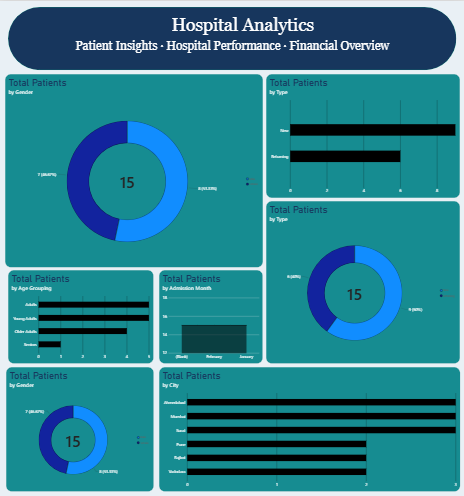

What the dashboard file says about the page in this screenshot:
{"tool":"powerbi","page":{"name":"Patient Analytics","canvas":[2320,2480],"ordinal":2},"visuals":[{"type":"donutChart","fields":{"Category":["Patients.Gender"],"Y":["Medical Transactions.Total Patients"]},"box":[29,1829,738.7,622.6],"z":0},{"type":"shape","box":[39.4,30.3,2242.1,315.8],"z":2},{"type":"textbox","box":[145.5,69.7,2136.4,157.6],"z":3},{"type":"textbox","box":[39.4,187.9,2242.4,75.8],"z":4},{"type":"clusteredBarChart","fields":{"Category":["Patients.Age Grouping"],"Y":["Medical Transactions.Total Patients"]},"box":[40,1344.2,727.5,468.3],"z":5},{"type":"donutChart","fields":{"Category":["Patients.Gender"],"Y":["Medical Transactions.Total Patients"]},"box":[22.5,362.5,1290,966.7],"z":6},{"type":"donutChart","fields":{"Category":["Patients.Type"],"Y":["Medical Transactions.Total Patients"]},"box":[1330,1000,970,812.5],"z":7},{"type":"clusteredBarChart","fields":{"Category":["Patients.City"],"Y":["Medical Transactions.Total Patients"]},"box":[793.5,1829,1506.5,622.6],"z":8},{"type":"lineChart","fields":{"Category":["Medical Transactions.Admission Month"],"Y":["Medical Transactions.Total Patients"]},"box":[793.3,1344.2,519.2,468.3],"z":9},{"type":"barChart","fields":{"Category":["Patients.Type"],"Y":["Medical Transactions.Total Patients"]},"box":[1327.5,362.5,970,620],"z":10}]}

Visuals, with their boxes in screenshot pixels (x1, y1, x2, y2), scaled from the page's 2320x2480 canvas onto the 464x496 screenshot:
donutChart - Patients.Gender x Medical Transactions.Total Patients: {"left": 6, "top": 366, "right": 154, "bottom": 490}
shape: {"left": 8, "top": 6, "right": 456, "bottom": 69}
textbox: {"left": 29, "top": 14, "right": 456, "bottom": 45}
textbox: {"left": 8, "top": 38, "right": 456, "bottom": 53}
clusteredBarChart - Patients.Age Grouping x Medical Transactions.Total Patients: {"left": 8, "top": 269, "right": 154, "bottom": 362}
donutChart - Patients.Gender x Medical Transactions.Total Patients: {"left": 4, "top": 72, "right": 262, "bottom": 266}
donutChart - Patients.Type x Medical Transactions.Total Patients: {"left": 266, "top": 200, "right": 460, "bottom": 362}
clusteredBarChart - Patients.City x Medical Transactions.Total Patients: {"left": 159, "top": 366, "right": 460, "bottom": 490}
lineChart - Medical Transactions.Admission Month x Medical Transactions.Total Patients: {"left": 159, "top": 269, "right": 262, "bottom": 362}
barChart - Patients.Type x Medical Transactions.Total Patients: {"left": 266, "top": 72, "right": 460, "bottom": 196}
